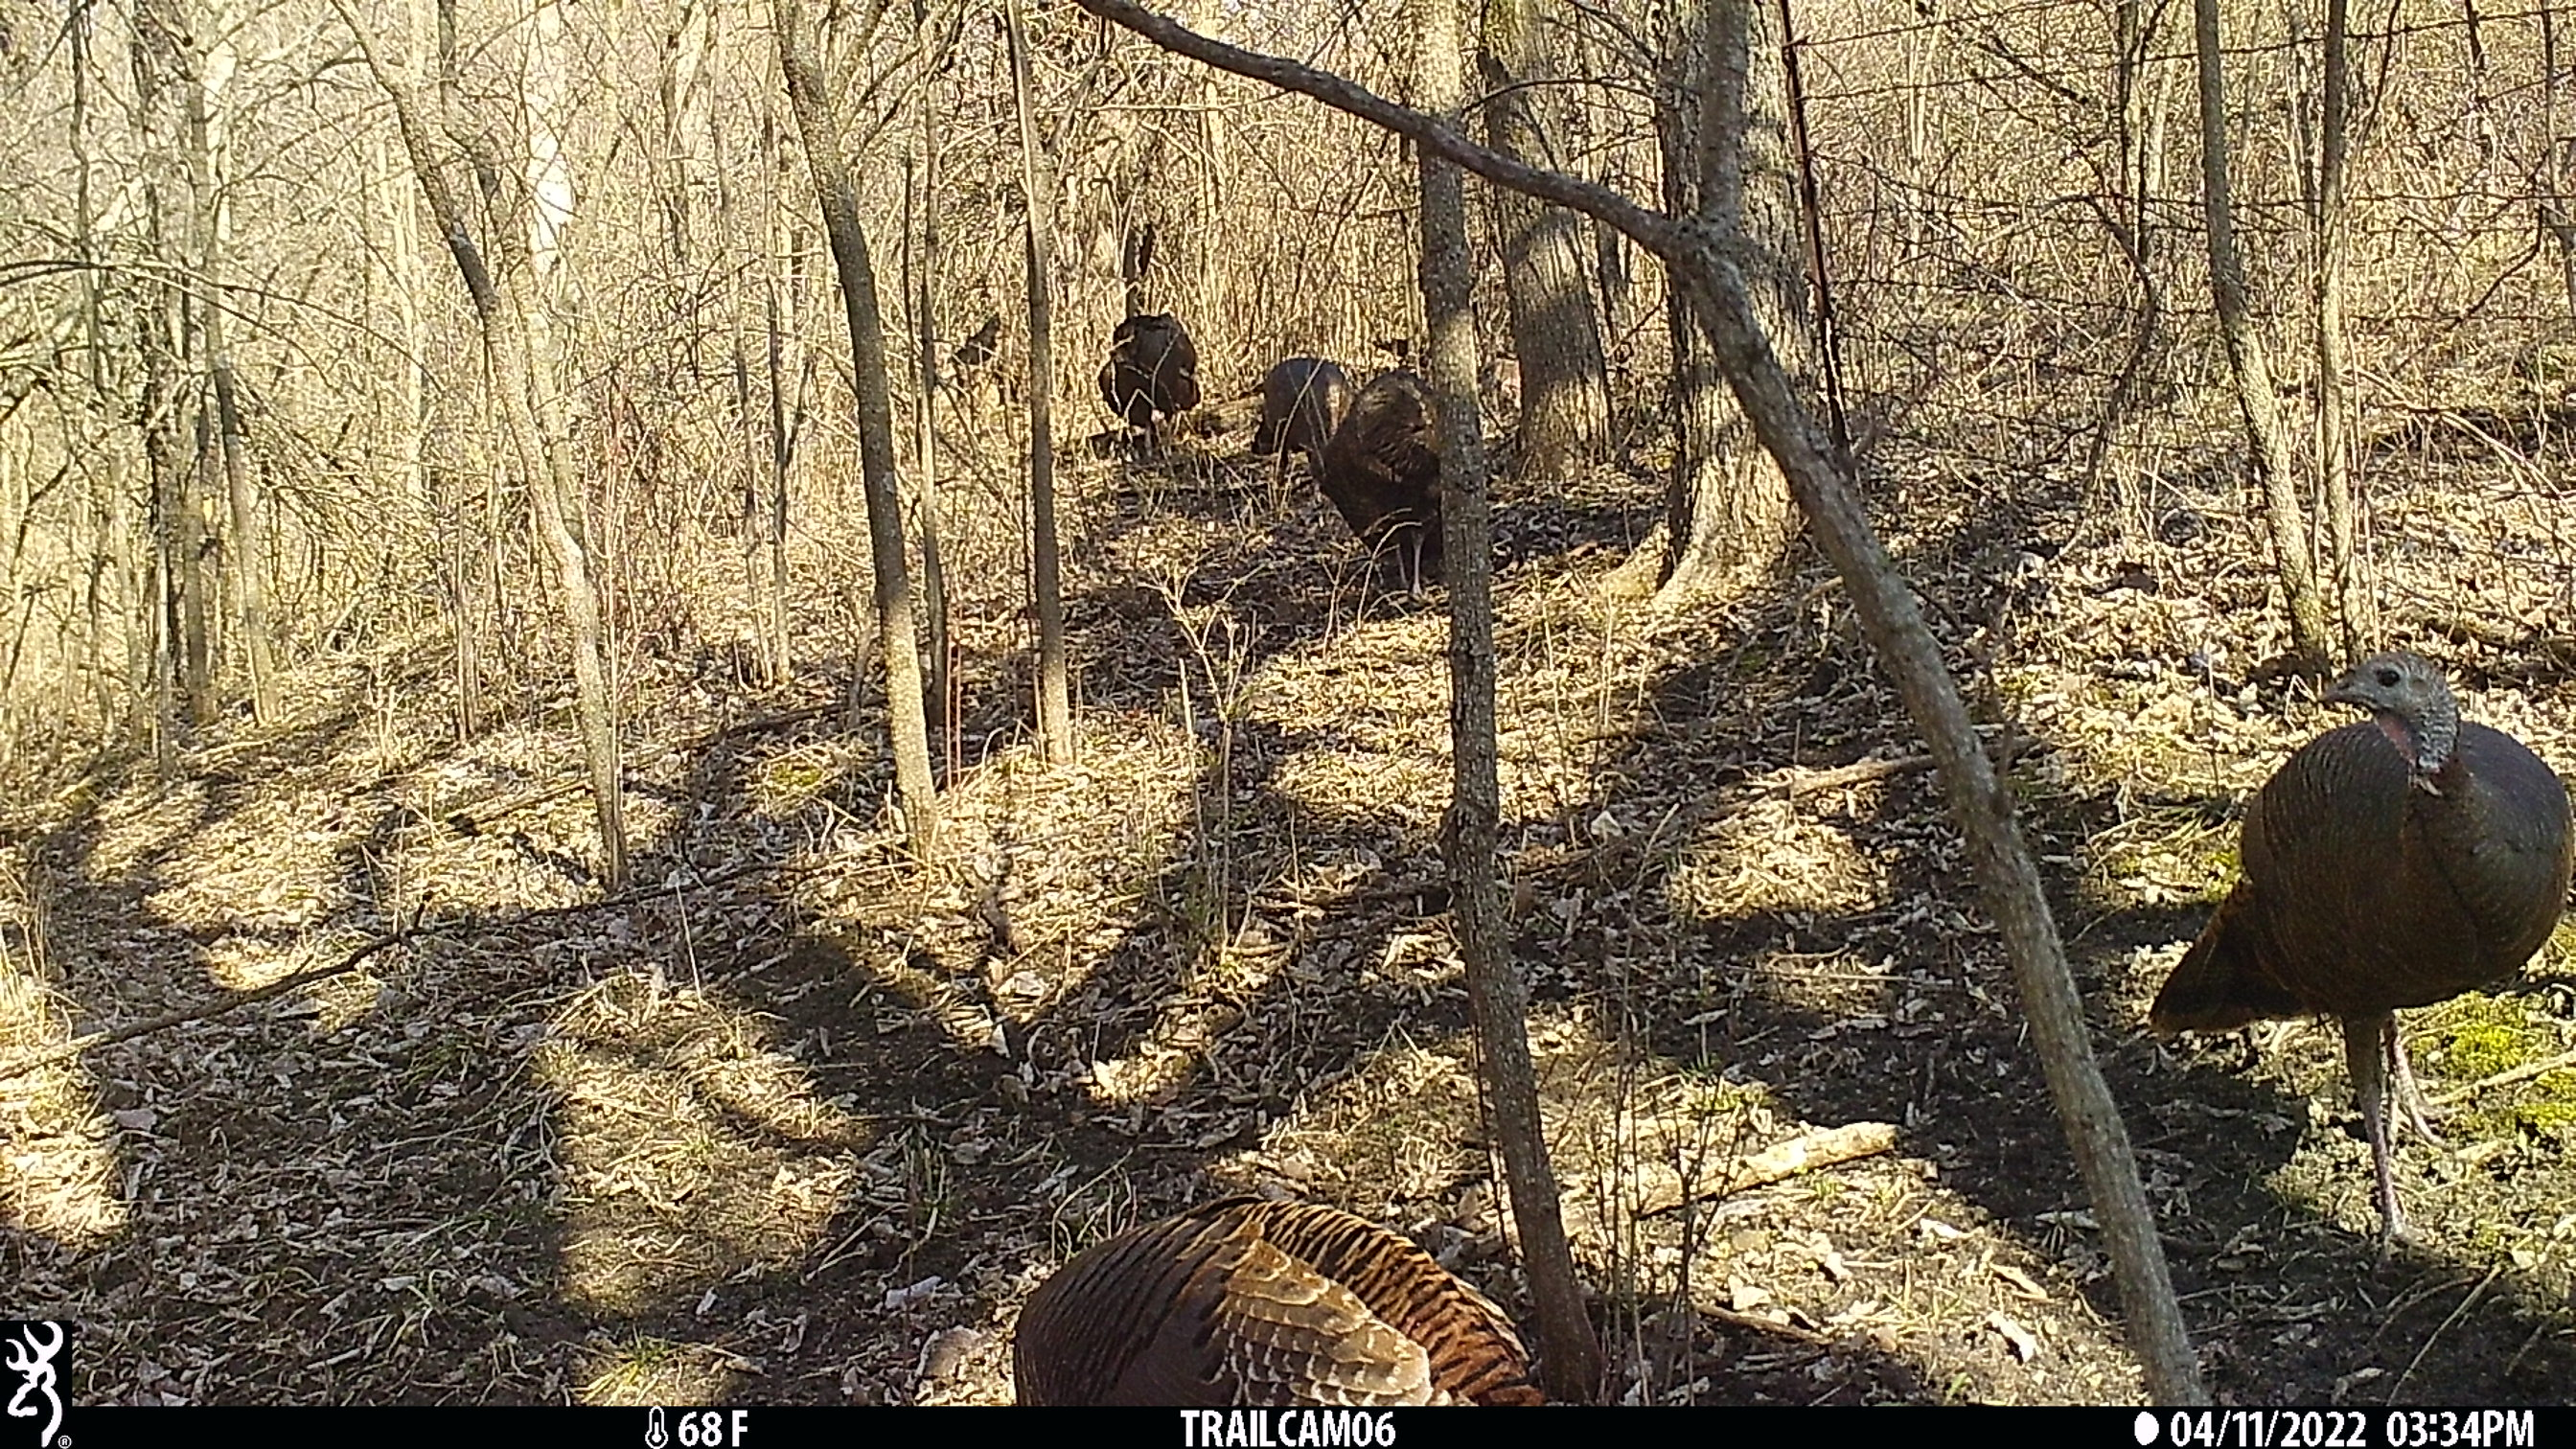Turkey: (2141, 642, 2574, 1046), (1008, 1187, 1552, 1403), (1316, 364, 1442, 547), (1099, 276, 1207, 433), (1249, 352, 1353, 467)
